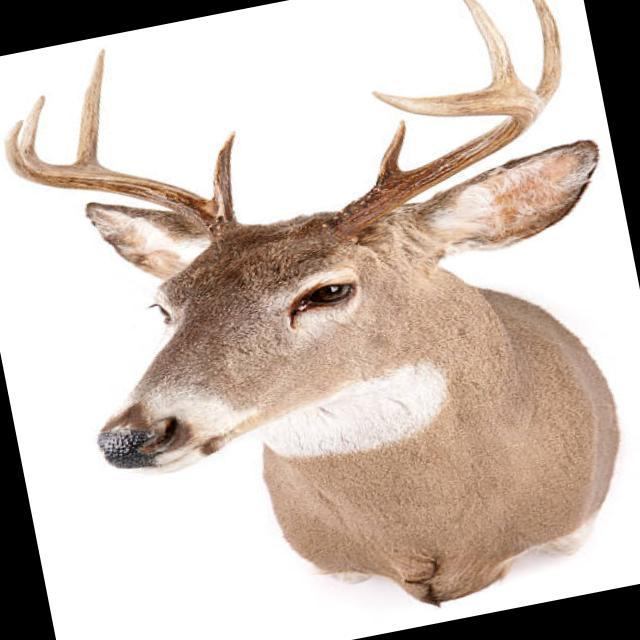L-F: (335, 86, 543, 232)
L-G1: (378, 117, 407, 178)
L-G2: (531, 0, 563, 108)
L-G3: (462, 0, 518, 82)
R-F: (3, 119, 235, 234)
R-G1: (211, 129, 238, 202)
R-G2: (75, 47, 107, 164)
R-G4: (20, 94, 46, 156)
